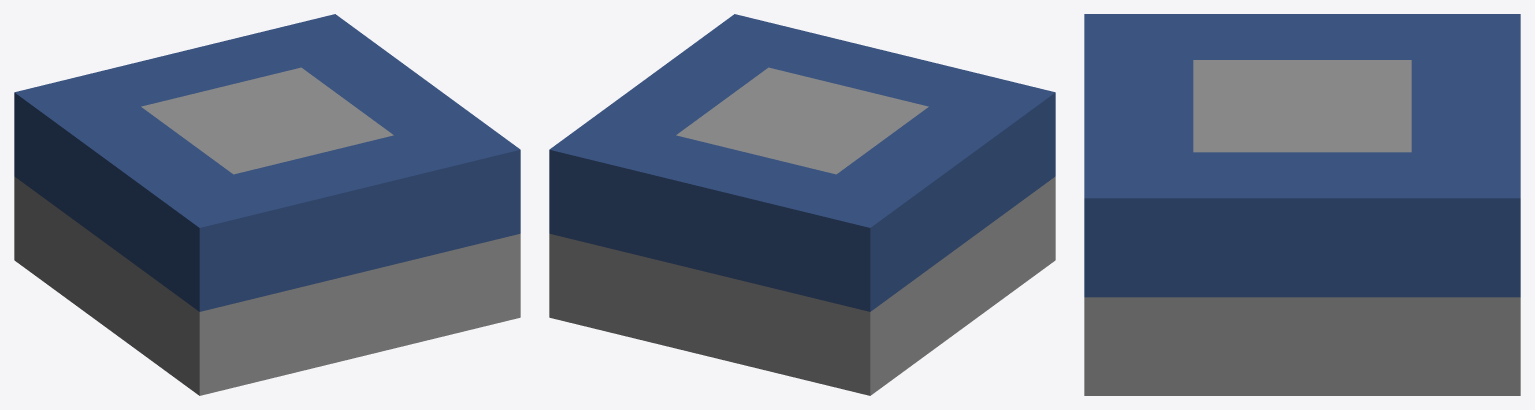
File: ContainerSmall.obj
The picture shows the model from 3 angles, left to right: view 1: azimuth 30°, elevation 25°; view 2: azimuth 150°, elevation 25°; view 3: azimuth 270°, elevation 25°; orthographic projection. The views are drawn at different scales.
Parts seen in each view (by area): view 1: ContainerSmall; view 2: ContainerSmall; view 3: ContainerSmall.
Part boxes in pixels (box(x1,y1,x2,y2)): ContainerSmall: box(14, 14, 520, 395); ContainerSmall: box(549, 14, 1055, 395); ContainerSmall: box(1084, 14, 1520, 395).
Bounding box in the file's own units: 4 × 2 × 4.
1 material, 1 textured.
